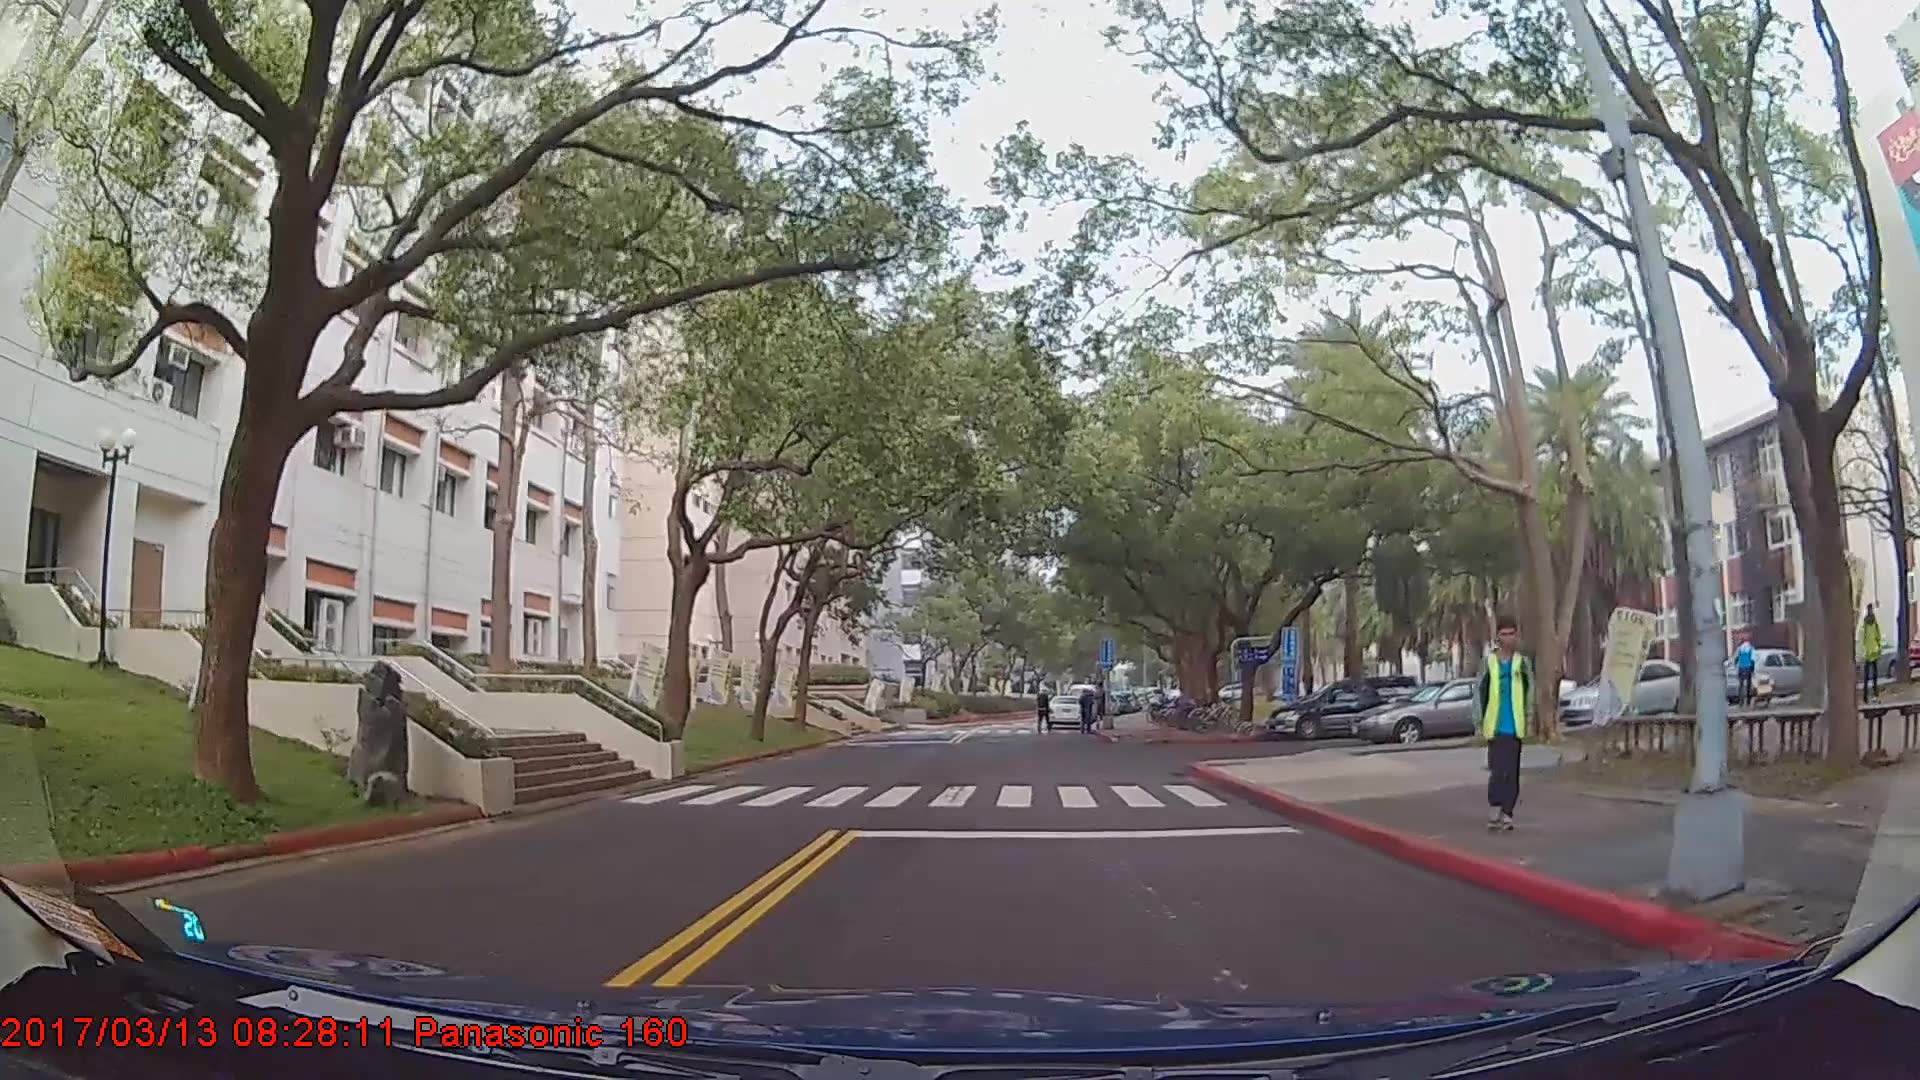pedestrian: (1467, 614, 1537, 830), (1733, 622, 1763, 714), (1859, 603, 1885, 706), (1035, 686, 1055, 735), (1077, 689, 1097, 735)
vehicle: (1352, 678, 1543, 747), (1559, 659, 1710, 728), (1267, 676, 1425, 738), (1712, 645, 1814, 704), (1044, 694, 1087, 732)
